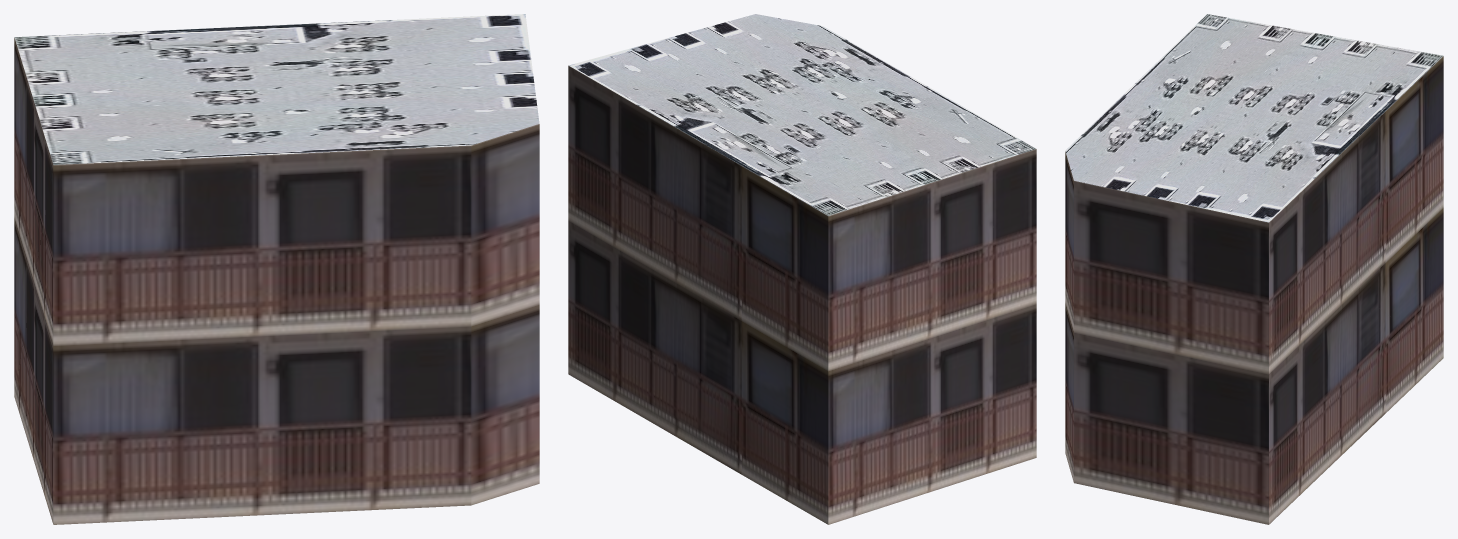
The model's file is ResTex__2687.fbx.
3 renders of one model, left to right at view 1: azimuth 30°, elevation 25°; view 2: azimuth 150°, elevation 25°; view 3: azimuth 270°, elevation 25°, orthographic. The views are drawn at different scales.
Parts seen in each view (by area): view 1: CityEngineMaterial_6_m, CityEngineMaterial_4_m; view 2: CityEngineMaterial_6_m, CityEngineMaterial_4_m; view 3: CityEngineMaterial_6_m, CityEngineMaterial_4_m.
Part boxes in pixels (box(x1,y1,x2,y2)): CityEngineMaterial_6_m: box(14, 37, 539, 524); CityEngineMaterial_4_m: box(14, 14, 539, 164); CityEngineMaterial_6_m: box(568, 65, 1036, 524); CityEngineMaterial_4_m: box(569, 14, 1035, 215); CityEngineMaterial_6_m: box(1065, 56, 1443, 524); CityEngineMaterial_4_m: box(1065, 14, 1443, 222).
Size of the model in its own units: 8.88 by 6 by 6.81.
2 materials, 2 textured.
